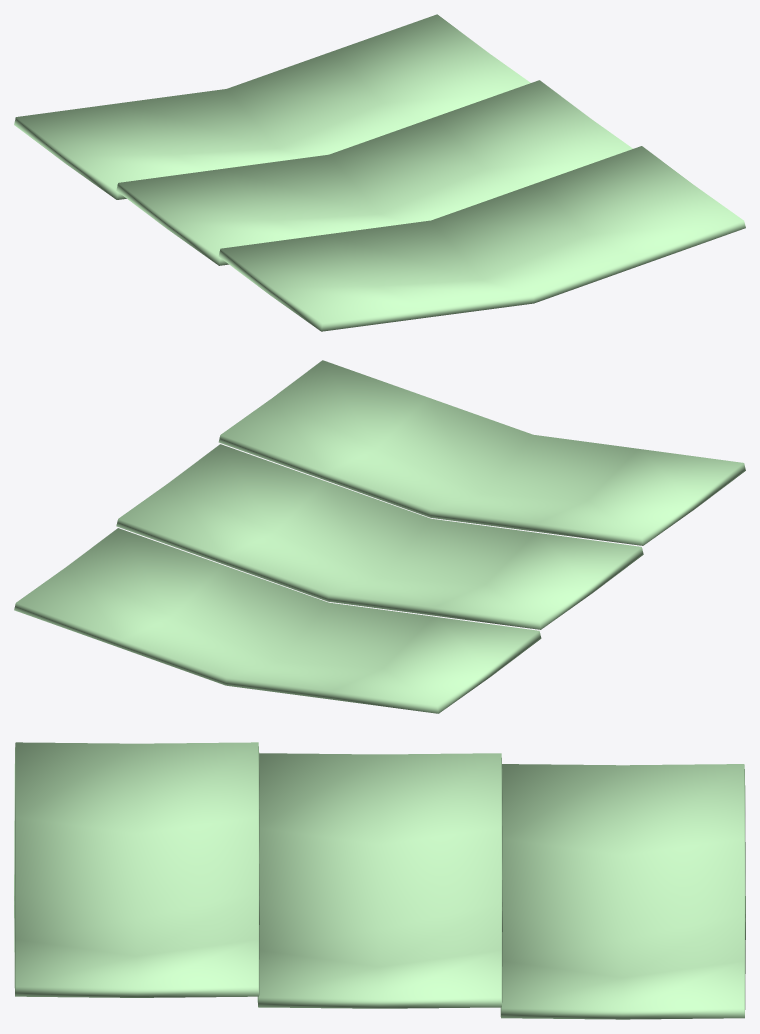
3 renders of one model, top to bottom at view 1: azimuth 30°, elevation 25°; view 2: azimuth 150°, elevation 25°; view 3: azimuth 270°, elevation 25°, orthographic. The views are drawn at different scales.
Visible parts, largest first — view 1: Plane; view 2: Plane; view 3: Plane.
Part boxes in pixels (<box>): Plane: <box>14,14,745,331</box>; Plane: <box>14,360,745,713</box>; Plane: <box>14,742,745,1019</box>.
Size of the model in its own units: 153 by 950 by 1194.
